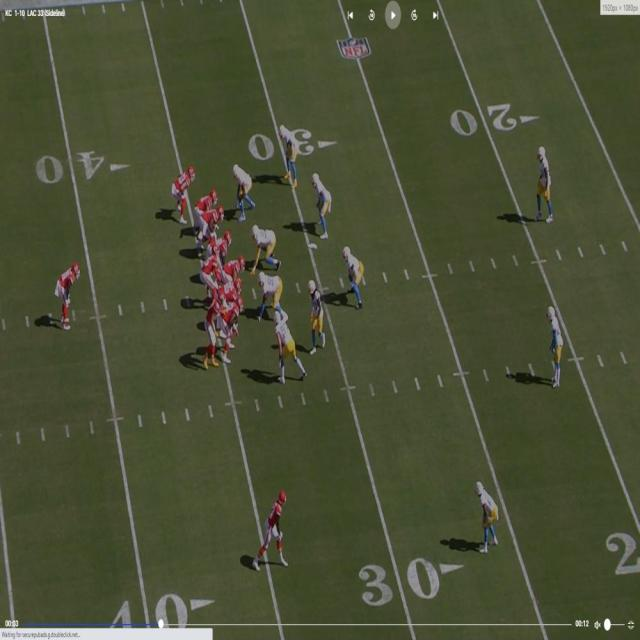center: (223, 258, 249, 280)
db: (538, 142, 556, 223), (478, 481, 498, 548), (549, 305, 562, 373), (280, 126, 298, 174)
lb: (305, 273, 324, 352), (229, 163, 256, 218), (342, 241, 364, 306), (313, 172, 333, 242)
qb: (202, 245, 220, 286)
skill: (263, 494, 288, 570), (203, 292, 226, 365), (56, 263, 76, 325), (172, 169, 193, 223), (192, 191, 220, 222)
